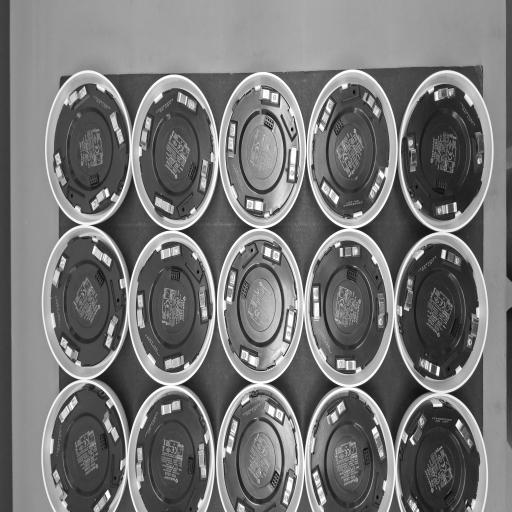yayli: (58, 391, 80, 423), (368, 167, 386, 205), (280, 468, 297, 508), (454, 418, 474, 451), (102, 408, 120, 444), (362, 90, 382, 122), (311, 466, 326, 508), (264, 397, 286, 425), (409, 412, 427, 446), (103, 315, 120, 350), (319, 97, 336, 132), (109, 111, 125, 147), (238, 344, 260, 370), (282, 305, 296, 345), (320, 178, 339, 207), (89, 188, 111, 213), (91, 244, 112, 270), (52, 469, 68, 502), (52, 255, 67, 290), (326, 400, 346, 426), (372, 424, 386, 461), (66, 86, 87, 110), (226, 418, 240, 454), (60, 337, 79, 363), (225, 268, 238, 306), (466, 313, 479, 350), (178, 91, 198, 115), (140, 117, 153, 153), (261, 243, 282, 265), (440, 248, 461, 270), (92, 488, 111, 512), (286, 147, 298, 185), (418, 357, 440, 377), (403, 274, 414, 314), (198, 158, 210, 194), (54, 152, 66, 186), (154, 195, 174, 215), (433, 86, 455, 104), (407, 134, 417, 173), (244, 196, 264, 215), (258, 86, 278, 105), (376, 293, 386, 330), (136, 292, 146, 328), (198, 286, 208, 322), (434, 202, 458, 217), (198, 444, 208, 480), (135, 446, 145, 482), (227, 122, 237, 158), (161, 398, 181, 415), (160, 244, 181, 260), (164, 355, 185, 371), (475, 132, 484, 169), (336, 358, 356, 373), (312, 286, 320, 322), (340, 245, 360, 258)
